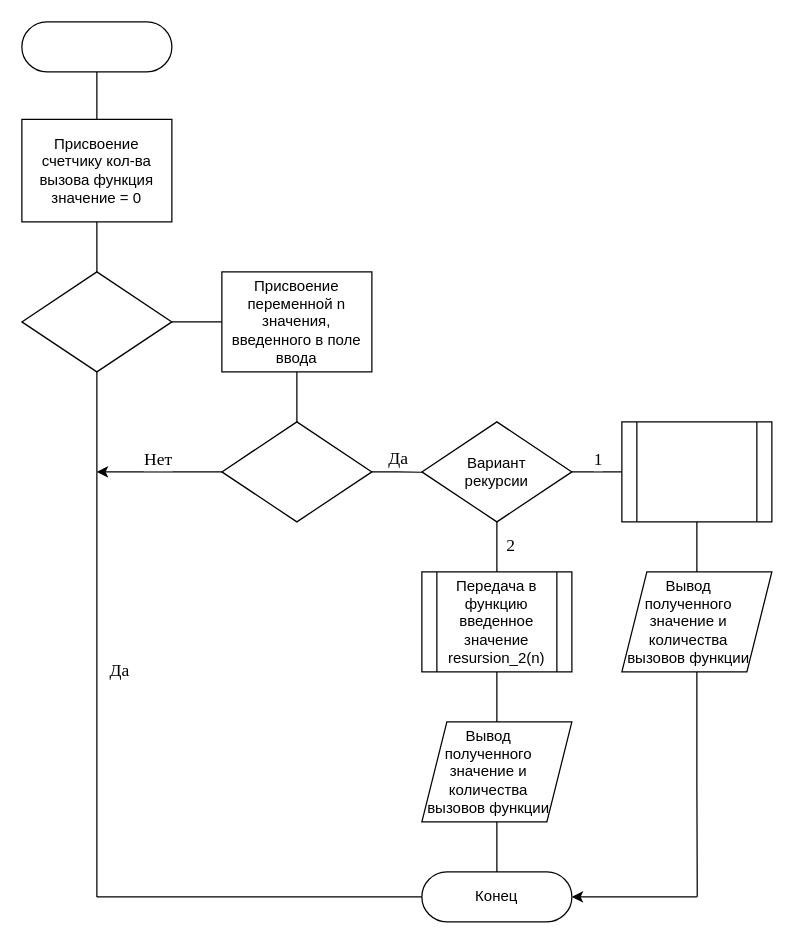
This 794x944 diagram has some shape labels left out. Here are the shapes that lost their labels. From the top down, the centre of each, then its label:
At point 96,46: "Начало".
At point 96,321: "Поле ввода пустое".
At point 296,471: "Выбран вариант рекурсии".
At point 696,471: "Передача в функцию введенное значение resursion_1(n)".
